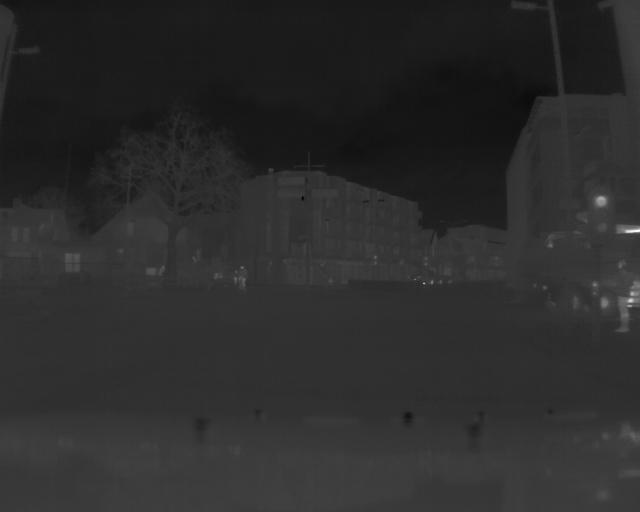person: (611, 257, 634, 338), (236, 265, 249, 290)
